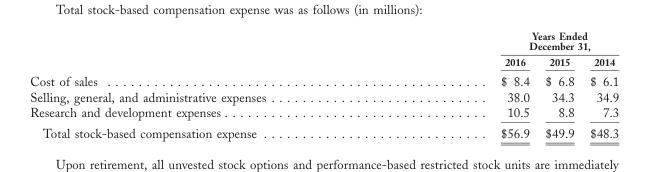table: (29, 29, 618, 140)
table column: (29, 29, 382, 140), (382, 29, 536, 140), (536, 29, 581, 140), (581, 29, 618, 140)
table column header: (29, 29, 618, 70)
table row: (29, 29, 618, 53), (29, 70, 618, 89), (29, 104, 618, 122), (29, 122, 618, 140), (29, 53, 618, 70), (29, 89, 618, 104)
table spanning cell: (382, 29, 618, 53)
